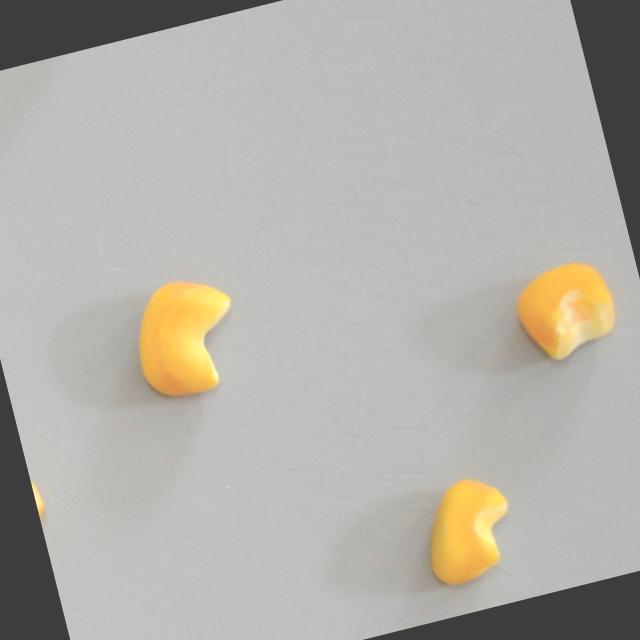no_canjicado: (119, 266, 247, 407), (408, 469, 522, 594), (505, 253, 623, 367), (28, 468, 55, 545)
